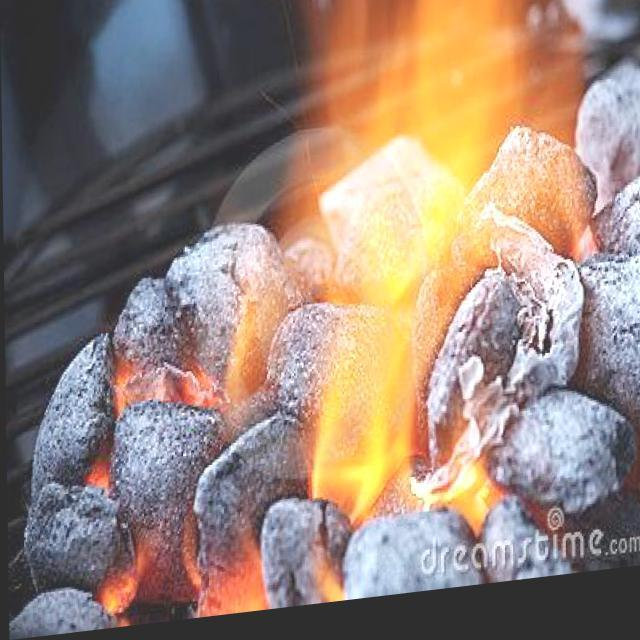Fire: (32, 0, 624, 620)
